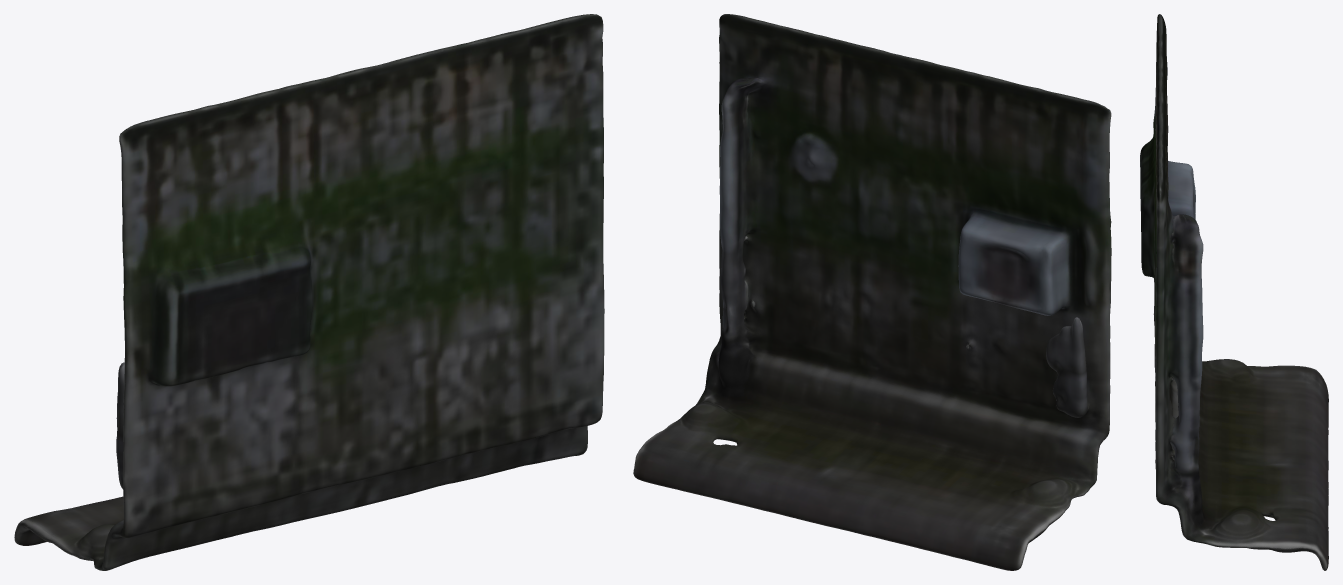
File: Wall_1.glb
3 renders of one model, left to right at view 1: azimuth 30°, elevation 25°; view 2: azimuth 150°, elevation 25°; view 3: azimuth 270°, elevation 25°, orthographic. The views are drawn at different scales.
Parts seen in each view (by area): view 1: world; view 2: world; view 3: world.
Part boxes in pixels (x1=…): world: x1=14, y1=14, x2=604, y2=570; world: x1=633, y1=14, x2=1111, y2=570; world: x1=1140, y1=14, x2=1328, y2=570.
Size of the model in its own units: 0.4115 by 0.4063 by 0.1809.
1 material, 1 textured.
